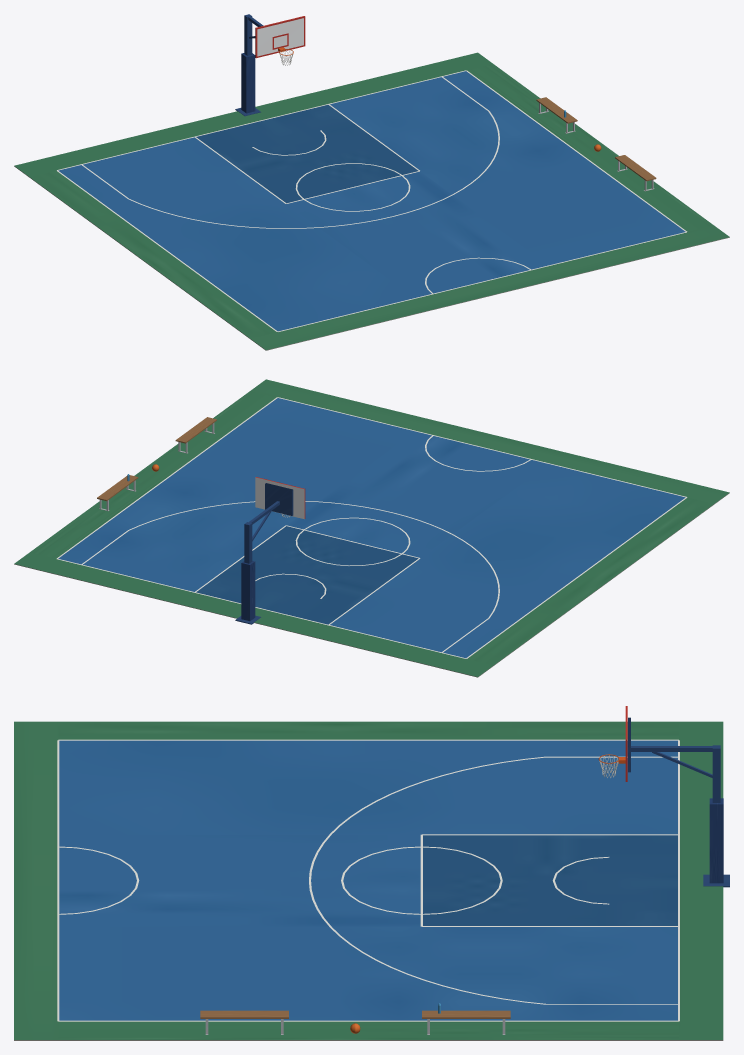
Rendered from bball_court.glb.
3 views of the same model, one above another, from view 1: azimuth 30°, elevation 25°; view 2: azimuth 150°, elevation 25°; view 3: azimuth 270°, elevation 25° (orthographic). The views are drawn at different scales.
Visible parts, largest first — view 1: court, hoop, bench; view 2: court, hoop, bench; view 3: court, hoop, bench.
Boxes of the visible parts, x1,y1,x2,y2 form: court: (14,52,729,350); hoop: (235,14,305,116); bench: (536,97,656,191); court: (14,379,729,677); hoop: (235,477,305,624); bench: (97,417,216,511); court: (14,721,723,1040); hoop: (598,706,729,887); bench: (200,1003,510,1034).
Size of the model in its own units: 17 by 3.95 by 16.15.
Materials: 1 (1 with a texture image).
